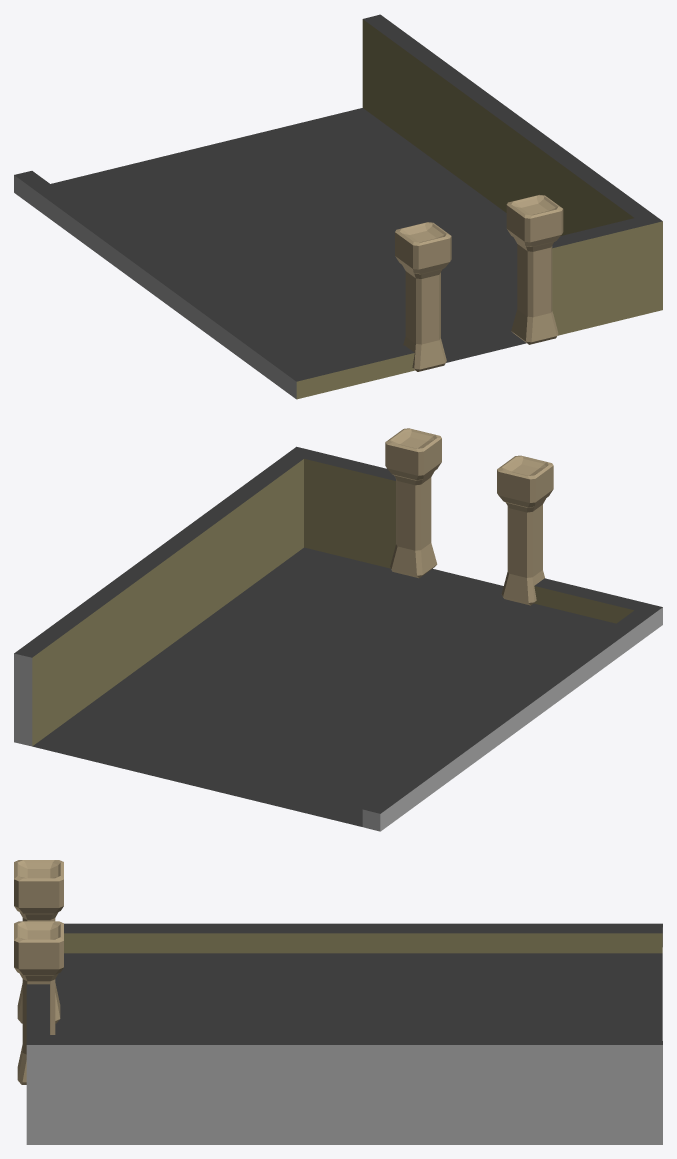
File: The corridor.fbx
The picture shows the model from 3 angles, top to bottom: view 1: azimuth 30°, elevation 25°; view 2: azimuth 150°, elevation 25°; view 3: azimuth 270°, elevation 25°; orthographic projection. The views are drawn at different scales.
Parts seen in each view (by area): view 1: Куб.001; view 2: Куб.001; view 3: Куб.001.
Part boxes in pixels (left/top/right/bottom): Куб.001: left=14, top=14, right=662, bottom=399; Куб.001: left=14, top=428, right=662, bottom=831; Куб.001: left=14, top=860, right=662, bottom=1144.
Size of the model in its own units: 2160 by 735 by 2941.
